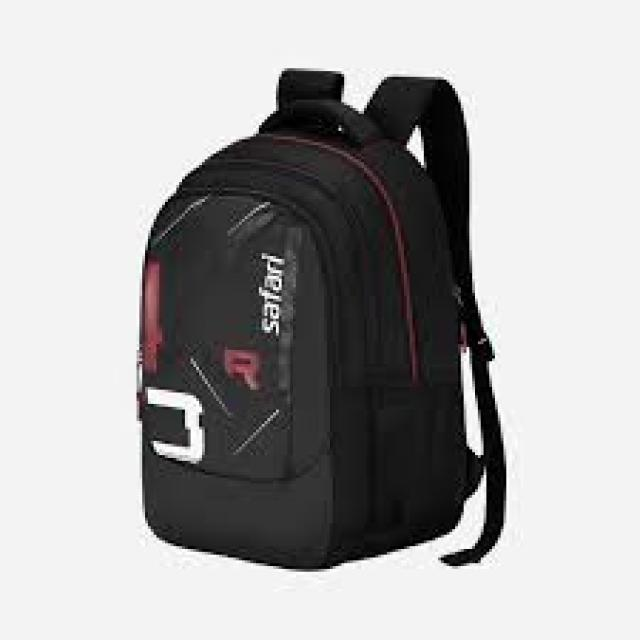backpack: (134, 65, 506, 569)
